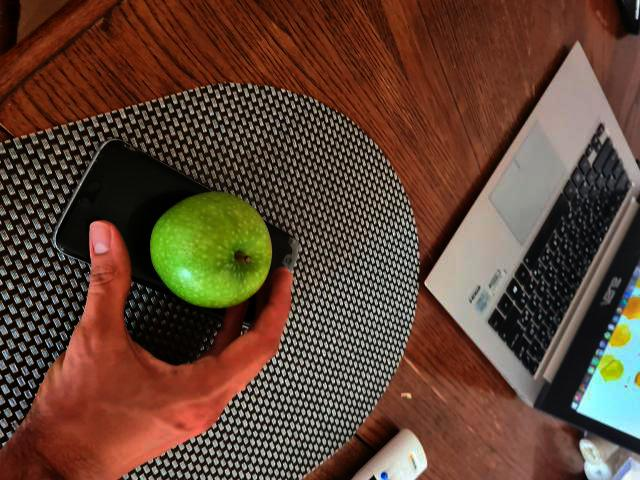apple: (153, 190, 267, 301)
